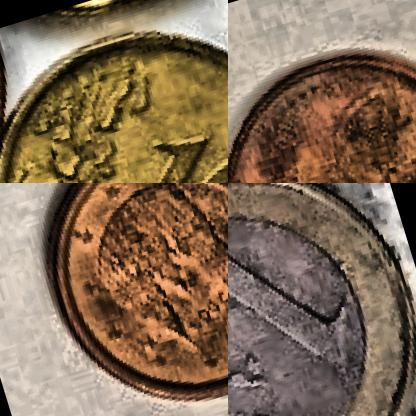coin: (18, 183, 227, 415), (228, 183, 415, 415), (0, 0, 227, 182), (228, 20, 415, 182)
